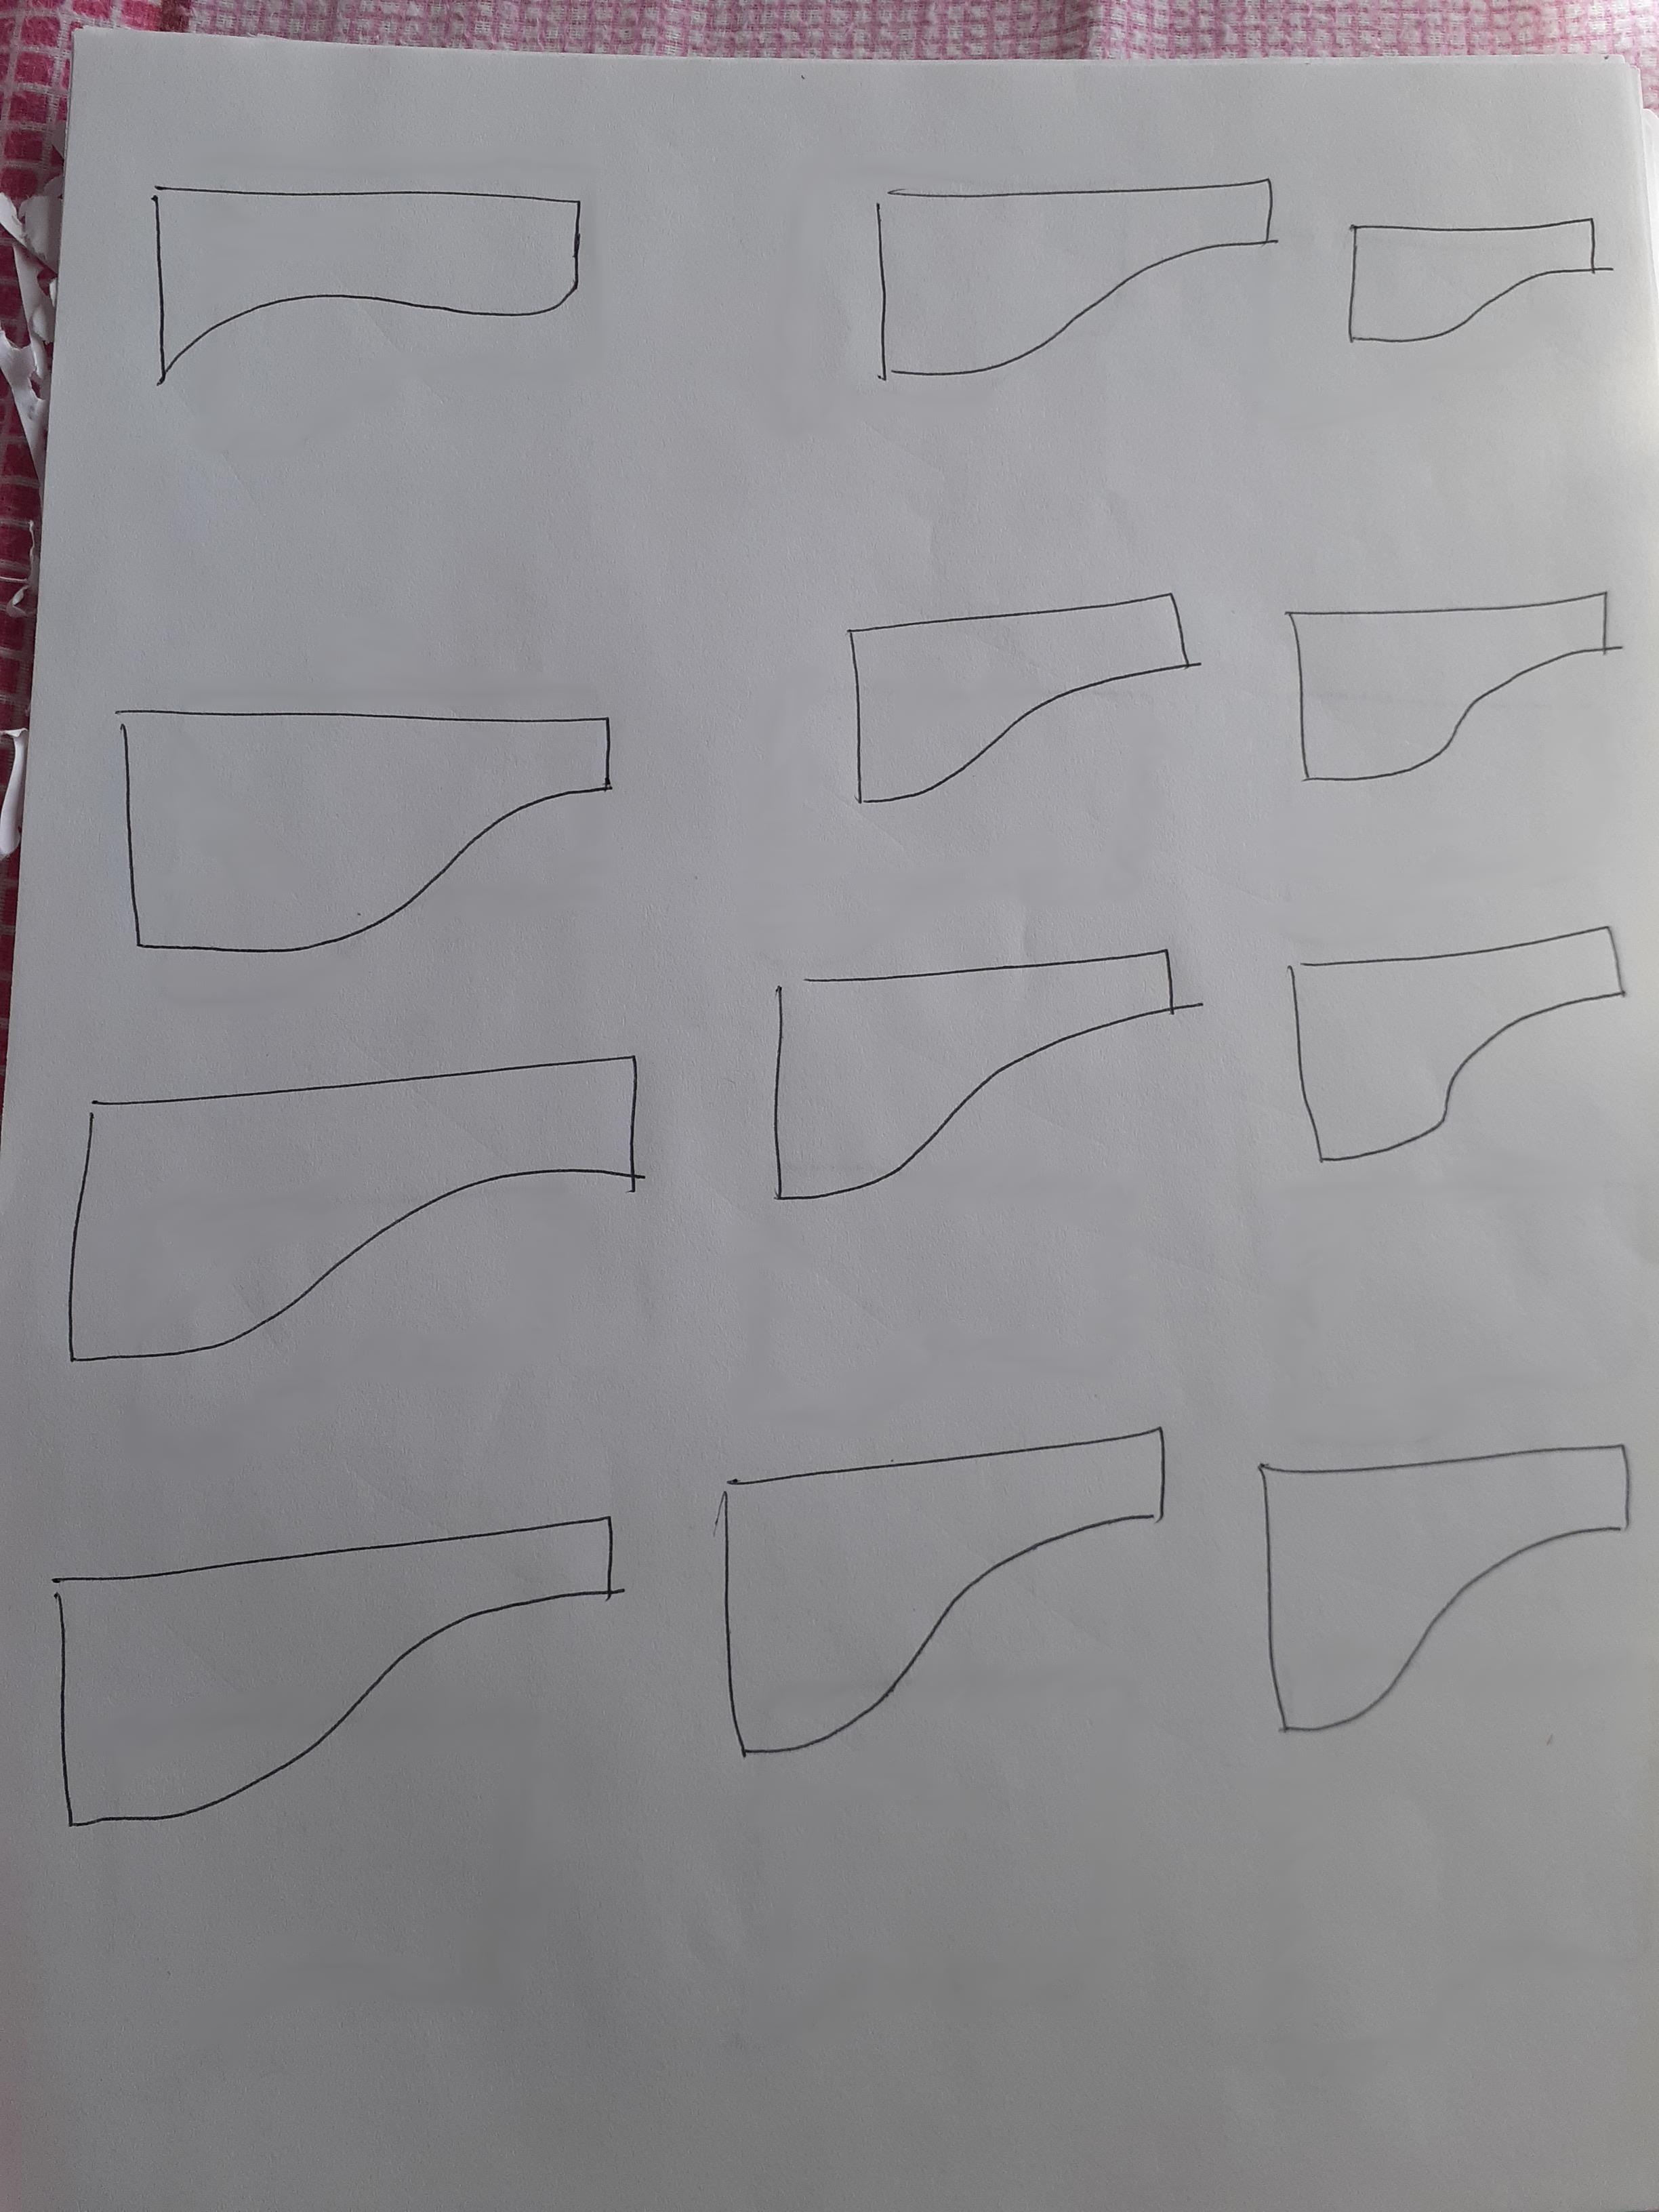print: (28, 1482, 645, 1869), (35, 1028, 655, 1404), (706, 1400, 1180, 1777), (78, 665, 641, 967), (1230, 1400, 1643, 1773), (132, 138, 591, 435), (763, 934, 1201, 1224), (857, 153, 1298, 415), (814, 571, 1208, 826), (1272, 923, 1643, 1191), (1288, 580, 1635, 801), (1326, 181, 1607, 378)
